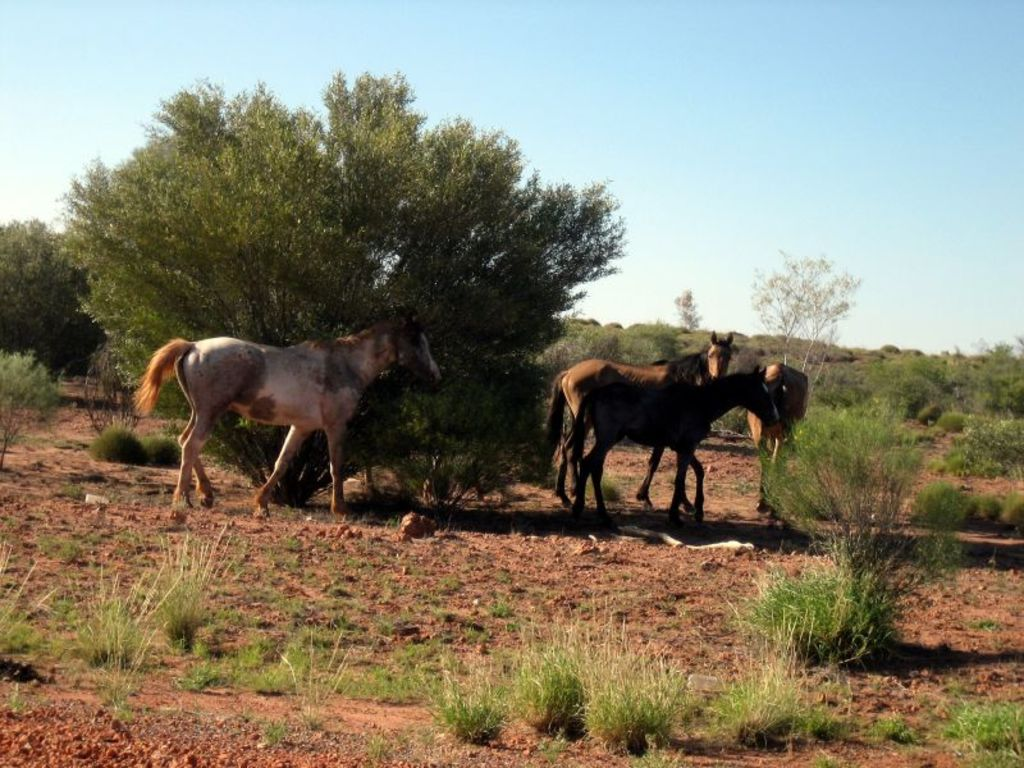horse: (126, 314, 444, 512), (564, 363, 787, 520)
